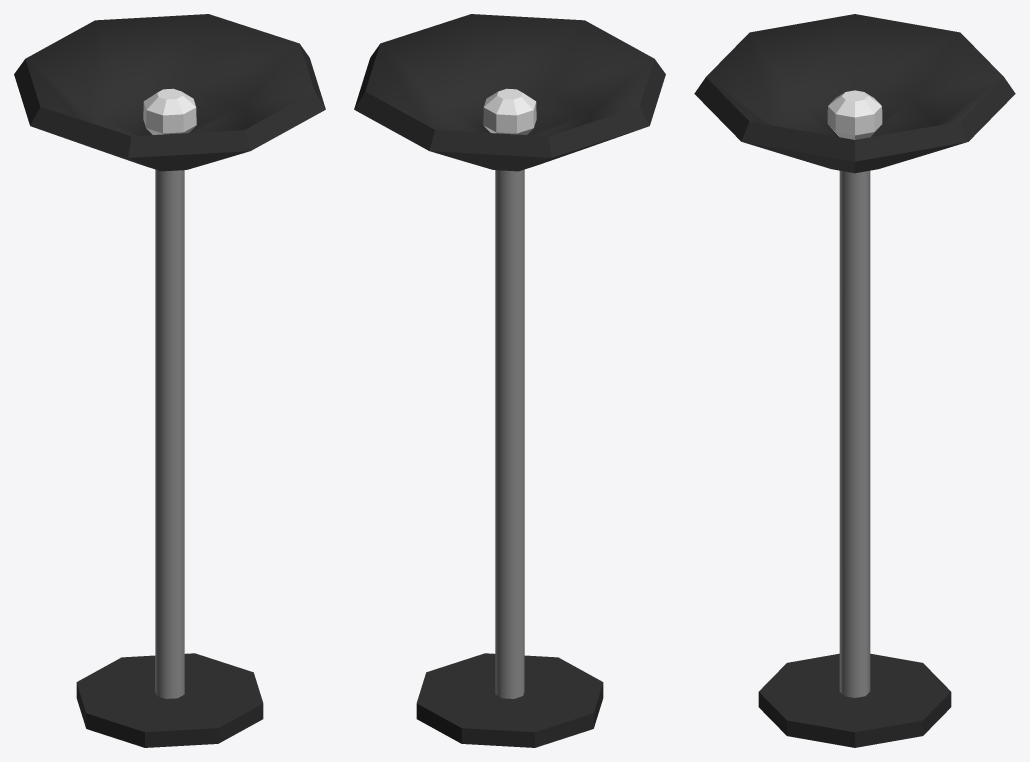
The model's file is Lamp.fbx.
3 views of the same model, side by side, from view 1: azimuth 30°, elevation 25°; view 2: azimuth 150°, elevation 25°; view 3: azimuth 270°, elevation 25° (orthographic).
Parts seen in each view (by area): view 1: lamp2; view 2: lamp2; view 3: lamp2.
Part boxes in pixels (bbox=[...]): lamp2: bbox=[14, 14, 325, 747]; lamp2: bbox=[354, 14, 665, 747]; lamp2: bbox=[694, 14, 1015, 747].
Bounding box in the file's own units: 1042 × 2254 × 1042.
